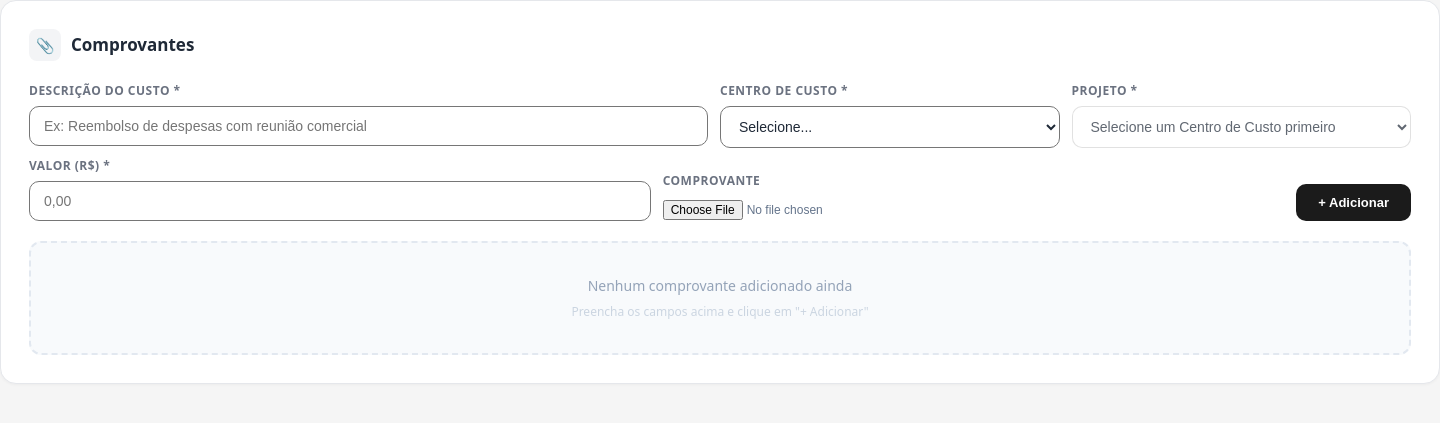
Scenario: ComprovantesSection › exibe erro quando projeto está vazio
The width and height of the screenshot is (1440, 423).
Step 1. Type "Almoço cliente" into the field with placeholder "Ex: Reembolso de despesas com reunião comercial" → x=368, y=126, box [29,106,708,146]
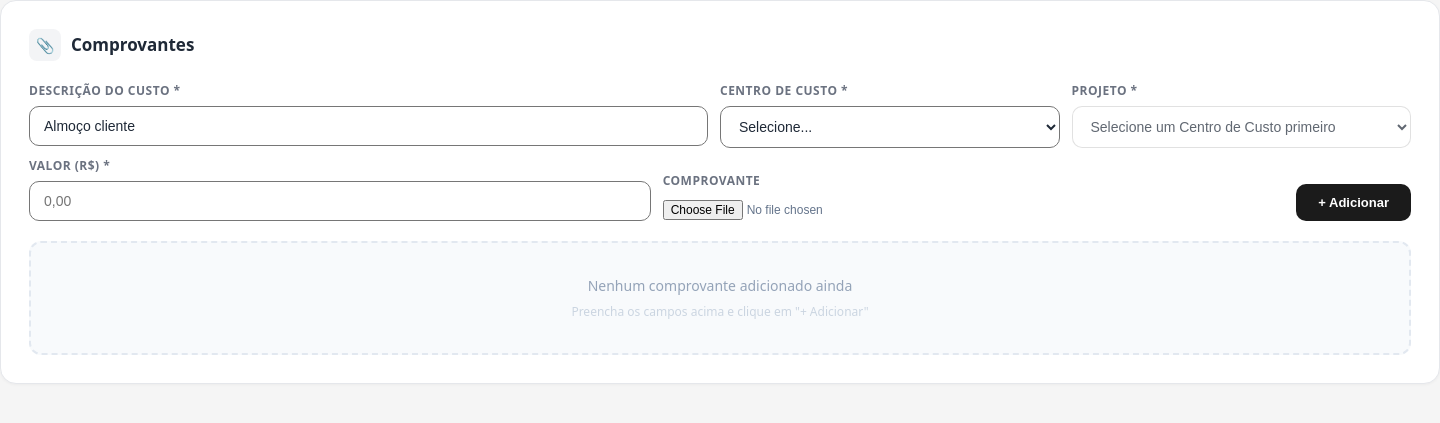
Step 2. Select "AI Lab" in the dropdown named "Centro de custo" → x=890, y=127, box [720,106,1060,148]
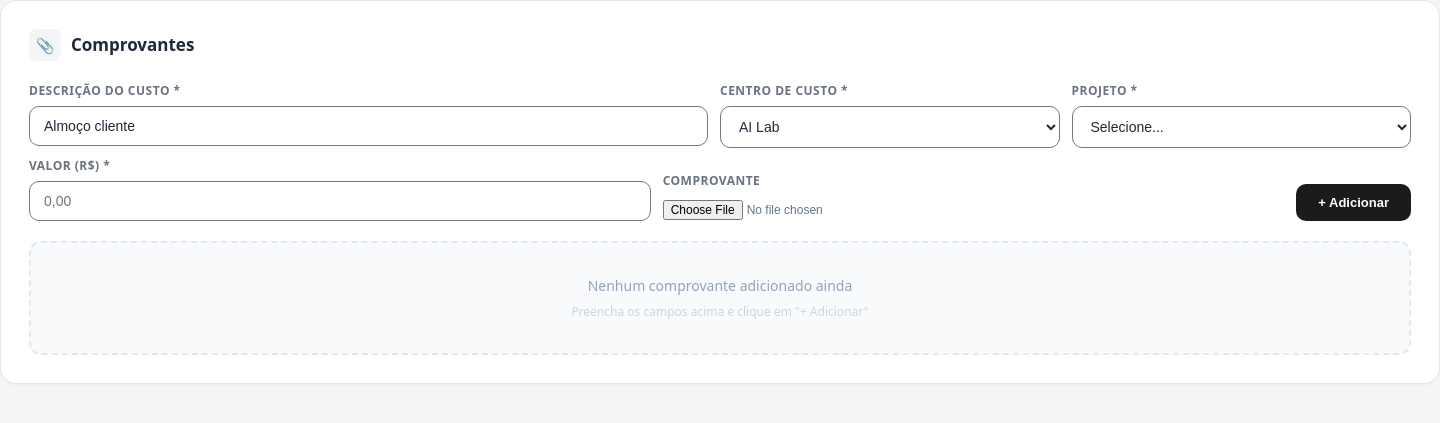
Step 3. Type "50" into the number field with placeholder "0,00" → x=340, y=201, box [29,181,651,221]
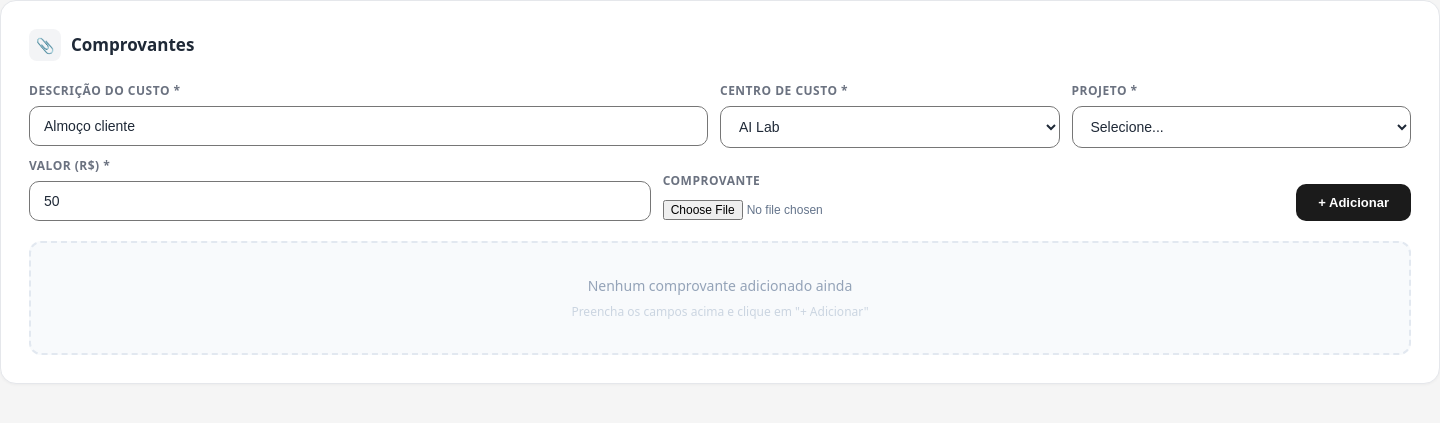
Step 4. Click the button "+ Adicionar" → x=1354, y=203, box [1296,184,1411,221]
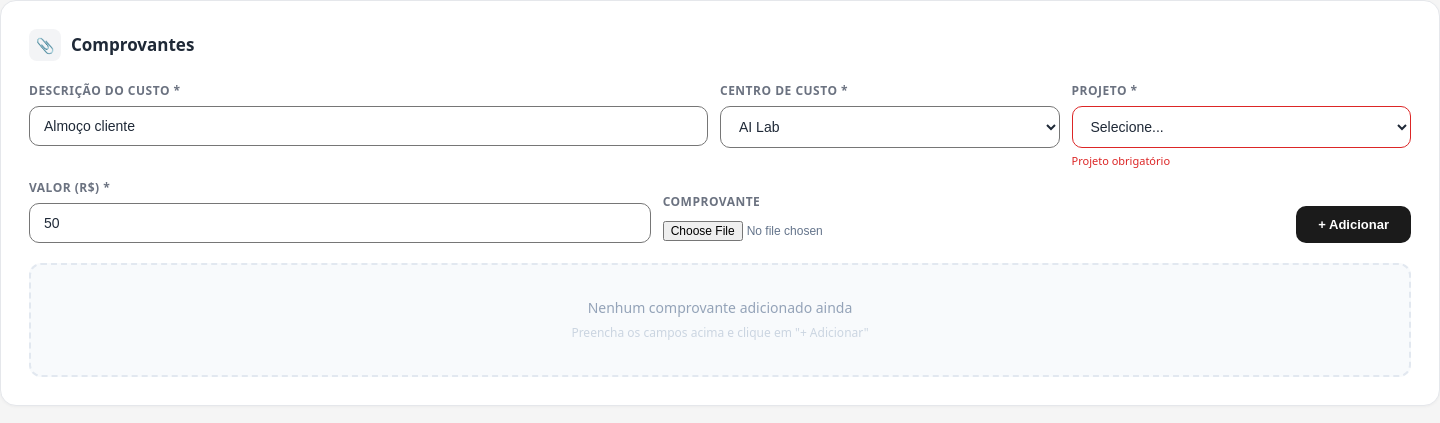
expect the text "Projeto obrigatório" is shown: met, box [1072,153,1170,168]
